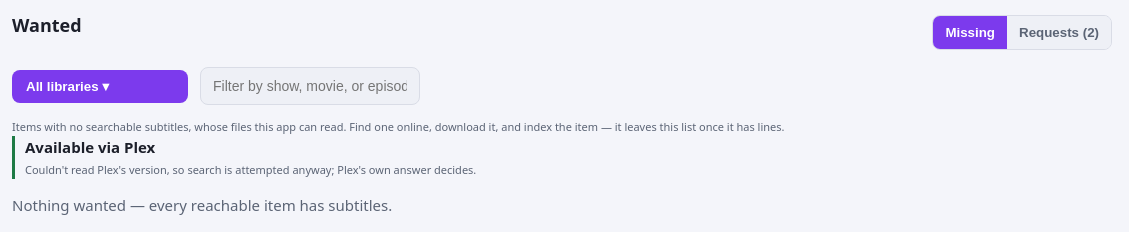
it: WantedView › says nothing is wanted, or that nothing matches the filter
Expected: the text "Nothing wanted — every reachable item has subtitles." is shown, [12, 194, 392, 214]
Type "zzz" into the field with placeholder "Filter by show, movie, or episode title…" at (310, 86), box [200, 67, 420, 105]
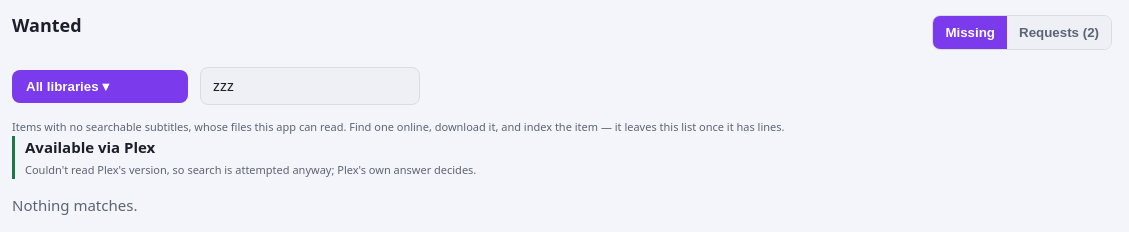
Expected: the text "Nothing matches." is shown, [12, 194, 137, 214]
